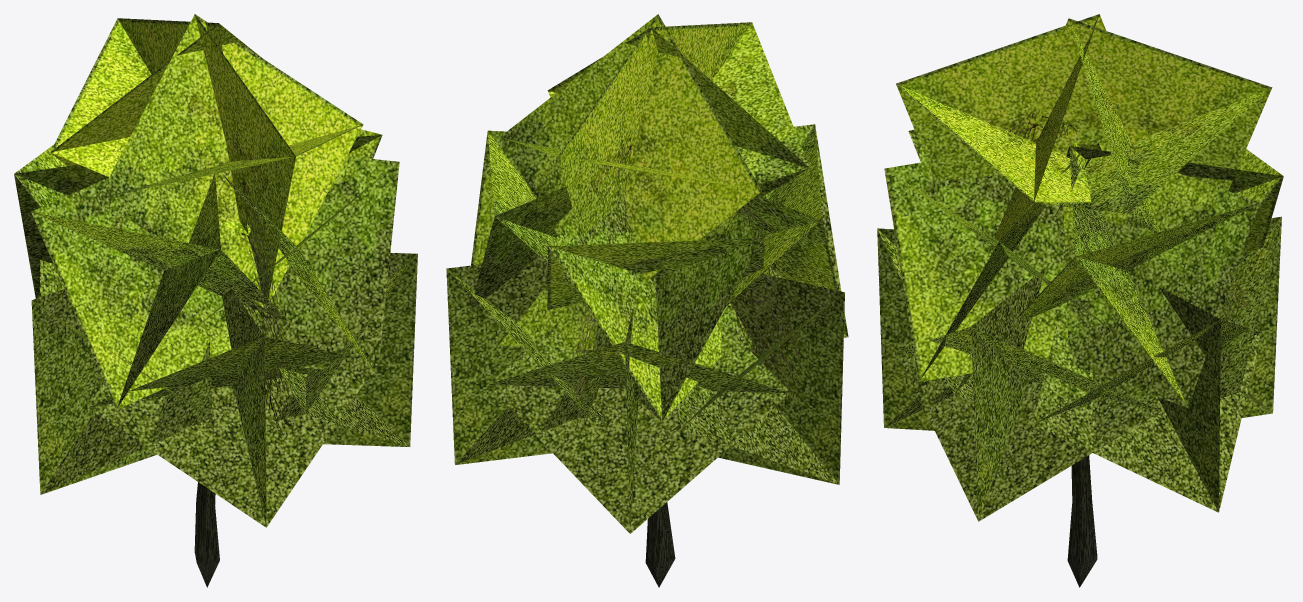
File: wilg_1.fbx
3 renders of one model, left to right at view 1: azimuth 30°, elevation 25°; view 2: azimuth 150°, elevation 25°; view 3: azimuth 270°, elevation 25°, orthographic.
Visible parts, largest first — view 1: wilg_1; view 2: wilg_1; view 3: wilg_1.
Part boxes in pixels (bbox=[...]): wilg_1: bbox=[14, 14, 417, 587]; wilg_1: bbox=[446, 14, 848, 587]; wilg_1: bbox=[877, 14, 1283, 587].
Bounding box in the file's own units: 413 × 626 × 408.
